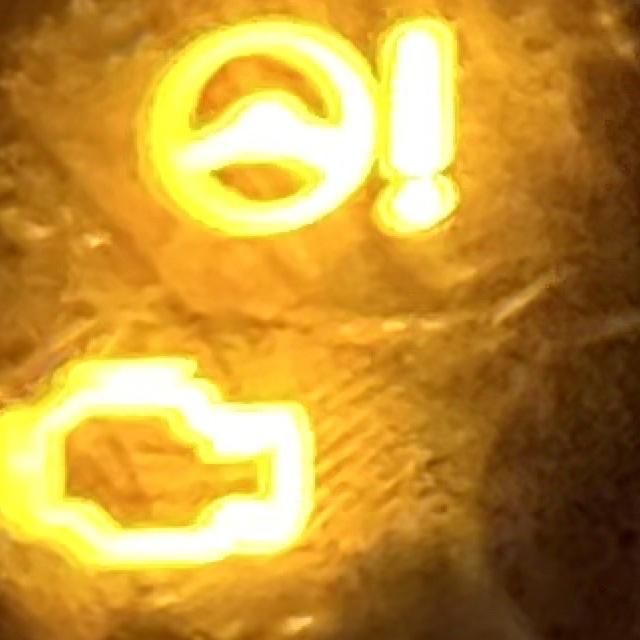Engine Issue: (1, 355, 324, 581)
Steering Wheel Locked: (135, 13, 466, 248)
